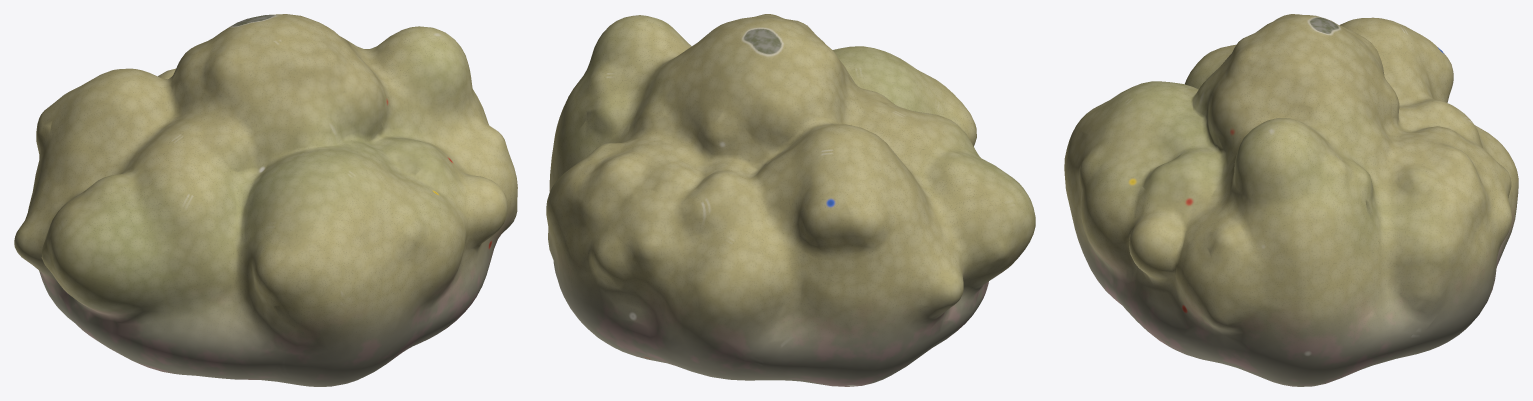
File: Coral_Massive_B.gltf
3 renders of one model, left to right at view 1: azimuth 30°, elevation 25°; view 2: azimuth 150°, elevation 25°; view 3: azimuth 270°, elevation 25°, orthographic. The views are drawn at different scales.
Visible parts, largest first — view 1: Coral_Massive_B; view 2: Coral_Massive_B; view 3: Coral_Massive_B.
Part boxes in pixels (x1=…): Coral_Massive_B: x1=14, y1=14, x2=517, y2=386; Coral_Massive_B: x1=546, y1=14, x2=1035, y2=386; Coral_Massive_B: x1=1064, y1=14, x2=1518, y2=386.
Size of the model in its own units: 1.2 by 0.7602 by 1.08.
1 material, 1 textured.
